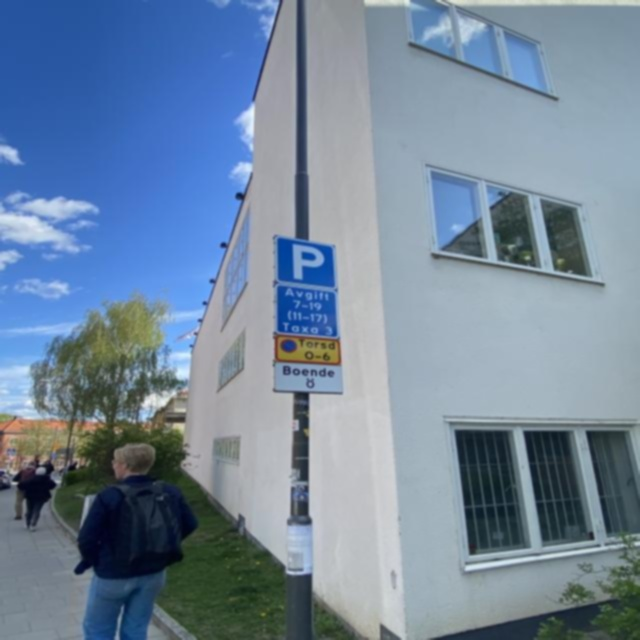P-skylt: (276, 236, 336, 288)
